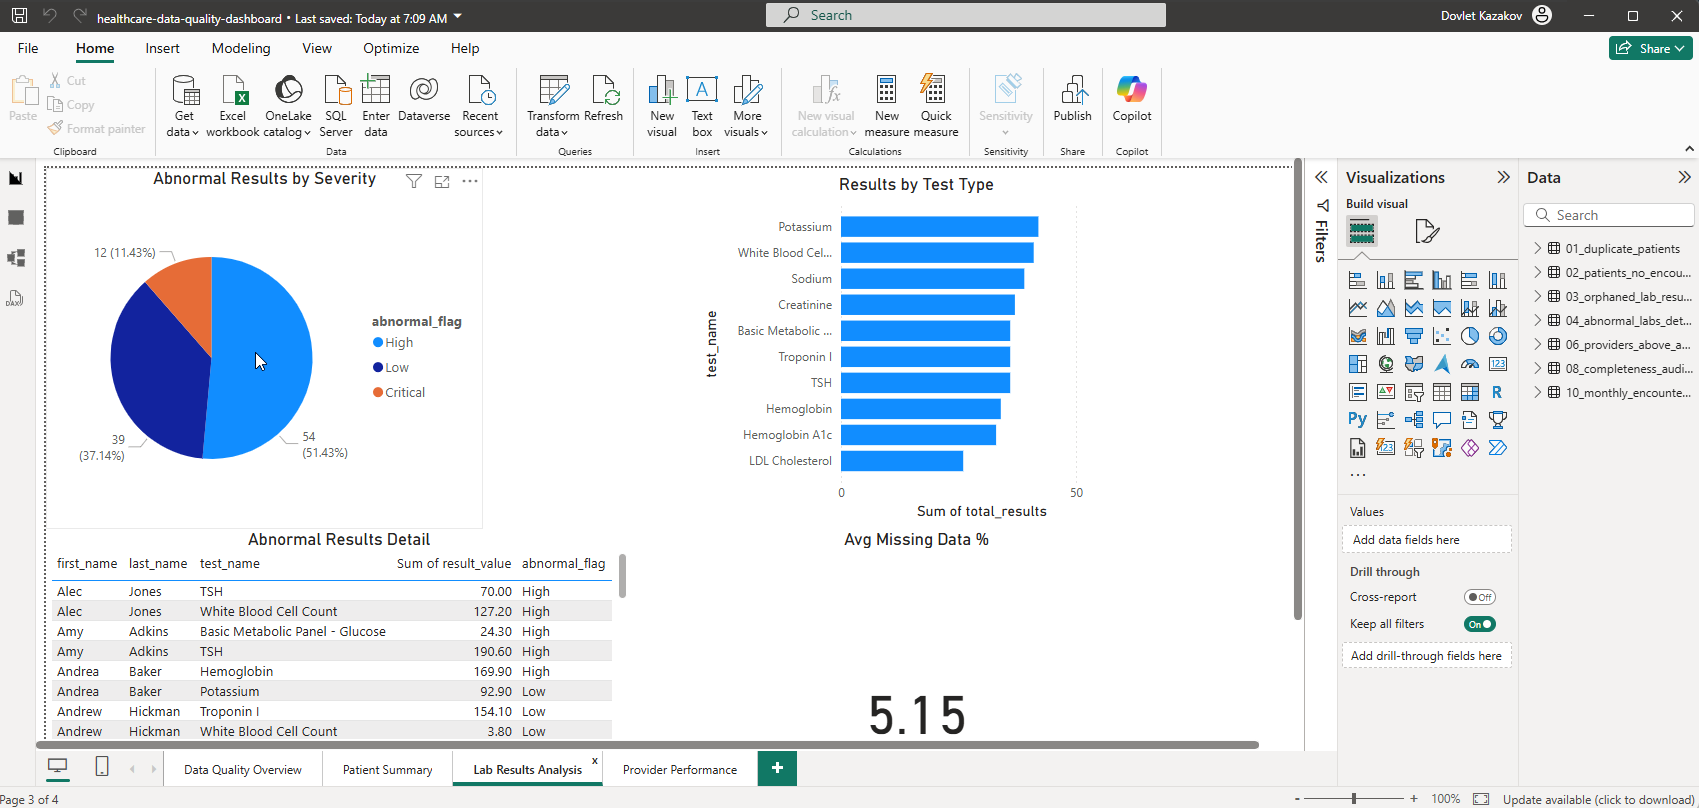

What the dashboard file says about the page in this screenshot:
{"tool":"powerbi","page":{"name":"Lab Results Analysis","canvas":[1280,720],"ordinal":2},"visuals":[{"type":"pieChart","title":"Abnormal Results by Severity","fields":{"Category":["04_abnormal_labs_detail.abnormal_flag"],"Y":["CountNonNull(04_abnormal_labs_detail.first_name)"]},"box":[0,0,436.9,360.6],"z":0},{"type":"clusteredBarChart","title":"Results by Test Type","fields":{"Category":["08_completeness_audit_by_test.test_name"],"Y":["Sum(08_completeness_audit_by_test.total_results)"]},"box":[652.3,6.2,436.9,349.5],"z":1000},{"type":"tableEx","title":"Abnormal Results Detail","fields":{"Values":["04_abnormal_labs_detail.first_name","04_abnormal_labs_detail.last_name","04_abnormal_labs_detail.test_name","Sum(04_abnormal_labs_detail.result_value)","04_abnormal_labs_detail.abnormal_flag"]},"box":[0,360.6,585.8,359.4],"z":2000},{"type":"card","title":"Avg Missing Data %","fields":{"Values":["Avg(08_completeness_audit_by_test.pct_missing)"]},"box":[652,361,437,359],"z":3000}]}

Visuals, with their boxes on the page's 1280x720 design canvas (x1, y1, x2, y2). These are canvas units, not pixel positions in the 1699x808 screenshot, which may show the page scaled, cropped or inside an application window:
"Abnormal Results by Severity" pieChart: {"left": 0, "top": 0, "right": 437, "bottom": 361}
"Results by Test Type" clusteredBarChart: {"left": 652, "top": 6, "right": 1089, "bottom": 356}
"Abnormal Results Detail" tableEx: {"left": 0, "top": 361, "right": 586, "bottom": 720}
"Avg Missing Data %" card: {"left": 652, "top": 361, "right": 1089, "bottom": 720}
